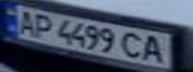4: (51, 17, 75, 44), (66, 19, 87, 47)
9: (96, 25, 121, 54), (81, 24, 103, 52)
A: (139, 34, 169, 64), (12, 7, 39, 35)
C: (118, 29, 148, 61)
P: (30, 11, 57, 38)
